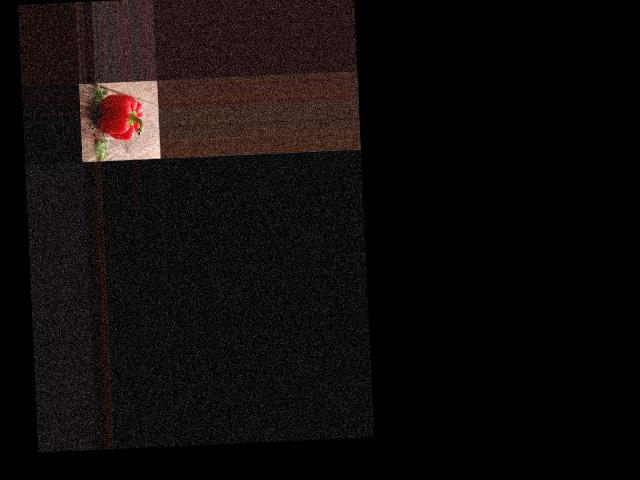bell_pepper: (95, 89, 148, 143)
